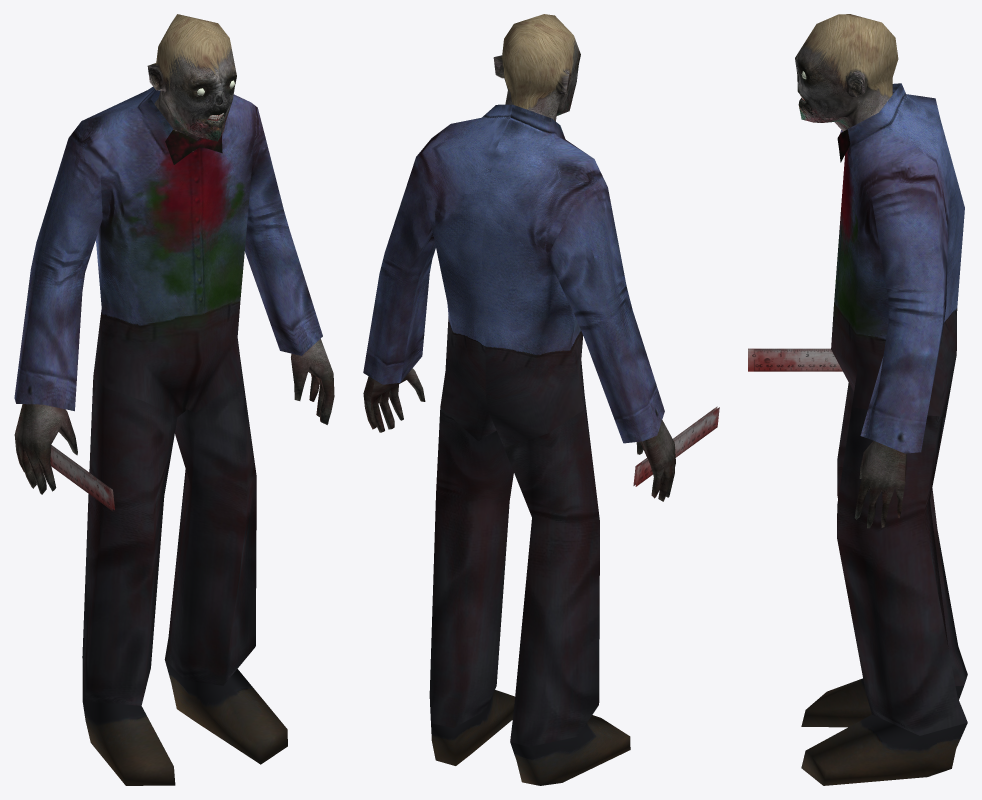
The model's file is Prof (new ruler).fbx.
The picture shows the model from 3 angles, left to right: view 1: azimuth 30°, elevation 25°; view 2: azimuth 150°, elevation 25°; view 3: azimuth 270°, elevation 25°; orthographic projection. The views are drawn at different scales.
Visible parts, largest first — view 1: farmer:Mesh, ruler; view 2: farmer:Mesh, ruler; view 3: farmer:Mesh, ruler.
Boxes of the visible parts, x1,y1,x2,y2 form: farmer:Mesh: (14, 14, 334, 785); ruler: (50, 445, 114, 510); farmer:Mesh: (363, 14, 675, 785); ruler: (633, 406, 719, 486); farmer:Mesh: (795, 14, 967, 785); ruler: (748, 348, 842, 371).
Bounding box in the file's own units: 8.11 × 18.67 × 5.07.
